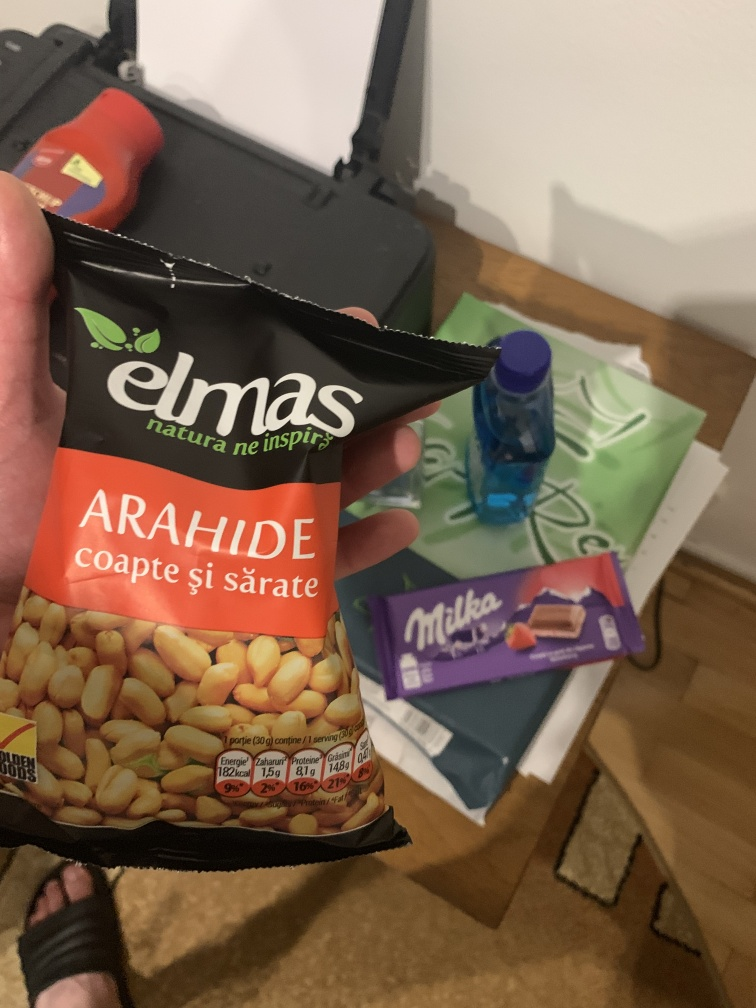ketchup: (16, 89, 172, 237)
milka: (371, 548, 677, 718)
peanuts: (12, 213, 467, 878)
